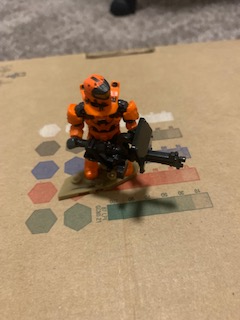soldier: (63, 72, 187, 184)
